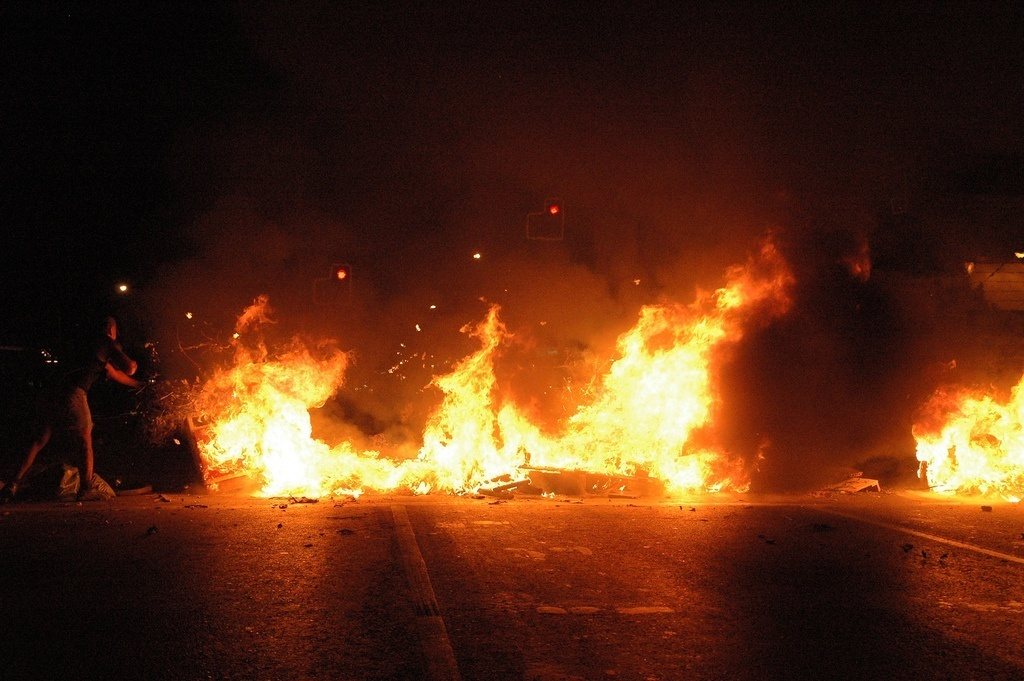fire: (187, 261, 787, 499), (910, 352, 1024, 501)
